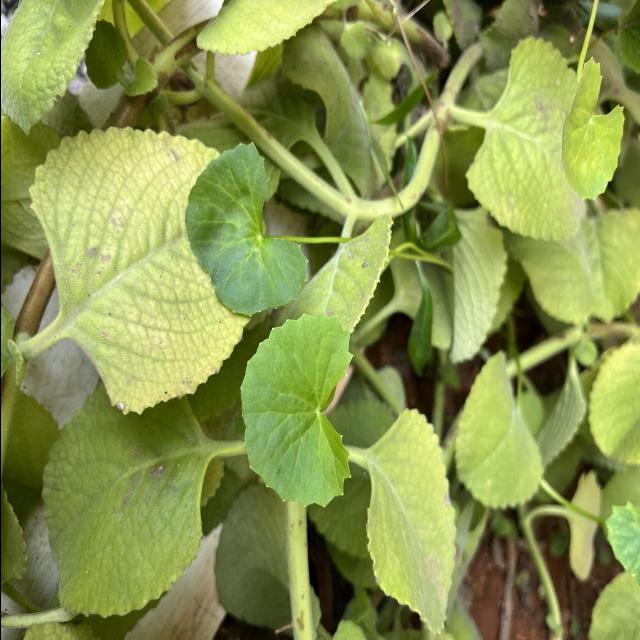Centella asiatica: (236, 306, 358, 512), (180, 137, 312, 321), (558, 52, 628, 206)
